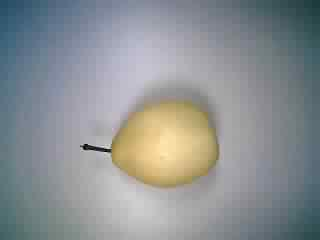pear: (70, 92, 230, 196)
